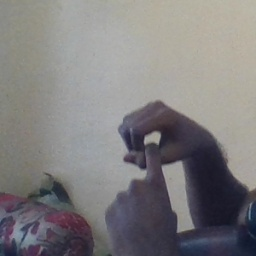Q: (101, 95, 194, 232)
